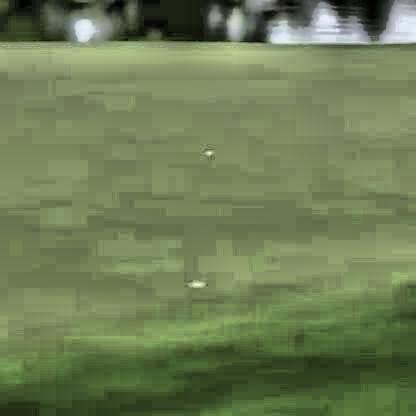golfball: (201, 146, 212, 156)
